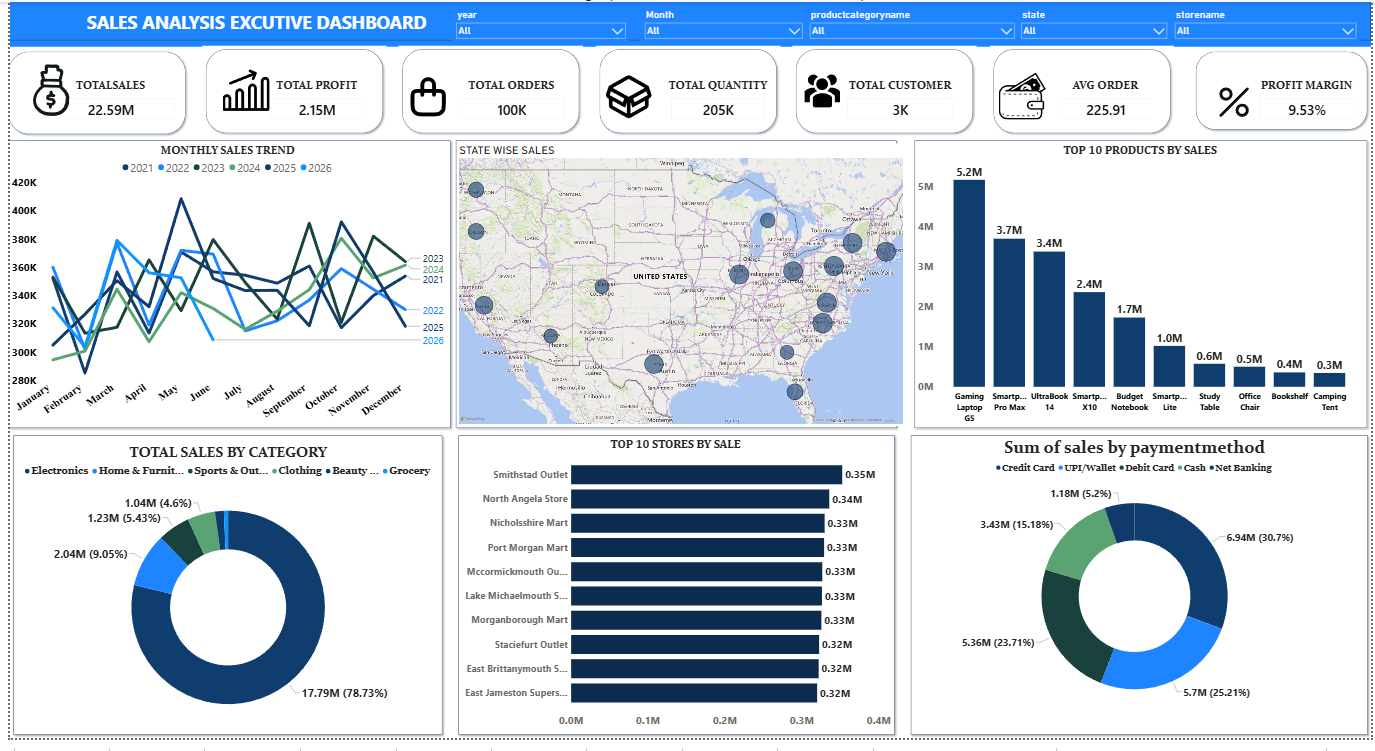

The page's visual inventory and layout, read from the dashboard file:
{"tool":"powerbi","page":{"name":"Excutive dashboard","canvas":[3700,2000],"ordinal":11},"visuals":[{"type":"group","id":"g1","title":"Group 4","box":[-12,-16,3712,2000],"z":0},{"type":"group","id":"g2","title":"Group 2","box":[-12,-16,3712,384],"z":0,"group":"g1"},{"type":"group","id":"g3","title":"Group 1","box":[-12,-16,3712,139.6],"z":0,"group":"g2"},{"type":"shape","box":[-12,-16,3712,121.3],"z":0,"group":"g3"},{"type":"shape","box":[-12,368,1219.9,800],"z":0,"group":"g7"},{"type":"textbox","box":[20,18.9,1120,104.7],"z":1000,"group":"g3"},{"type":"shape","box":[-12,125.5,499.7,242.5],"z":1000,"group":"g2"},{"type":"cardVisual","title":"AVG ORDER","fields":{"Data":["dimcustomer.Average Order Value"]},"box":[2836,208,288,128],"z":1000,"group":"g1"},{"type":"group","id":"g4","title":"Group 10","box":[-12,368,3712,1632],"z":1000},{"type":"group","id":"g5","title":"Group 9","box":[-12,368,3712,1632],"z":1000,"group":"g4"},{"type":"group","id":"g6","title":"Group 5","box":[-12,368,3712,800],"z":1000,"group":"g5"},{"type":"shape","box":[1204,368,1216,800],"z":1000,"group":"g7"},{"type":"group","id":"g7","title":"Group 6","box":[-12,368,3712,800],"z":1001,"group":"g6"},{"type":"slicer","fields":{"Values":["dimdate.year"]},"box":[1203.4,16,480,96],"z":2000,"group":"g10"},{"type":"shape","box":[523.4,121.1,499.7,246.9],"z":2000,"group":"g2"},{"type":"image","box":[0,160,224,160],"z":2000},{"type":"cardVisual","title":"TOTALSALES","fields":{"Data":["dimcustomer.total sales"]},"box":[84,208,384,128],"z":2000,"group":"g1"},{"type":"shape","box":[2452,368,1248,800],"z":2000,"group":"g7"},{"type":"lineChart","title":"MONTHLY SALES TREND","fields":{"Y":["Sum(factsales.sales)"],"Series":["dimdate.year"],"Category":["dimdate.date.Variation.Date Hierarchy.Month"]},"box":[0,384,1184,768],"z":2000,"group":"g4"},{"type":"slicer","fields":{"Values":["dimdate.date.Variation.Date Hierarchy.Month"]},"box":[1715.4,16,448,96],"z":3000,"group":"g10"},{"type":"shape","box":[1594.2,121.1,499.7,246.9],"z":3000,"group":"g2"},{"type":"image","box":[576,160,128,160],"z":3000},{"type":"cardVisual","title":"TOTAL PROFIT","fields":{"Data":["dimcustomer.total profit"]},"box":[692,208,288,128],"z":3000,"group":"g1"},{"type":"group","id":"g8","title":"Group 7","box":[0,1168,3700,832],"z":3000,"group":"g5"},{"type":"shape","box":[2440,1168,1260,832],"z":3000,"group":"g9"},{"type":"donutChart","title":"TOTAL SALES BY CATEGORY","fields":{"Y":["Sum(factsales.sales)"],"Category":["dimproductcategory.productcategoryname"]},"box":[20,1200,1152,800],"z":3000,"group":"g4"},{"type":"group","id":"g9","title":"Group 8","box":[0,1168,3700,832],"z":3001,"group":"g8"},{"type":"shape","box":[0,1168,1184,832],"z":3500,"group":"g9"},{"type":"slicer","fields":{"Values":["dimproductcategory.productcategoryname"]},"box":[2163.4,16,576,96],"z":4000,"group":"g10"},{"type":"shape","box":[3215.8,128,484.2,230.4],"z":4000,"group":"g2"},{"type":"image","box":[1056,192,160,128],"z":4000},{"type":"cardVisual","title":"TOTAL ORDERS","fields":{"Data":["dimcustomer.Total Orders"]},"box":[1204,208,320,128],"z":4000,"group":"g1"},{"type":"map","title":"STATE WISE SALES","fields":{"Category":["dimstore.state"],"Size":["Sum(factsales.sales)"]},"box":[1216,384,1216,768],"z":4000,"group":"g4"},{"type":"shape","box":[1208,1168,1204,832],"z":4000,"group":"g9"},{"type":"slicer","fields":{"Values":["dimstore.state"]},"box":[2739.4,16,416,96],"z":5000,"group":"g10"},{"type":"shape","box":[2129.5,121.1,499.7,246.9],"z":5000,"group":"g2"},{"type":"image","box":[1568,192,224,128],"z":5000},{"type":"cardVisual","title":"TOTAL QUANTITY","fields":{"Data":["dimcustomer.Total Quantity"]},"box":[1780,208,288,128],"z":5000,"group":"g1"},{"type":"clusteredColumnChart","title":"TOP 10 PRODUCTS BY SALES","fields":{"Category":["dimproduct.productname"],"Y":["Sum(factsales.sales)"]},"box":[2464,384,1216,768],"z":5000,"group":"g4"},{"type":"slicer","fields":{"Values":["dimstore.storename"]},"box":[3155.4,16,512,96],"z":6000,"group":"g10"},{"type":"shape","box":[2664.9,121.1,499.7,246.9],"z":6000,"group":"g2"},{"type":"image","box":[2144,160,128,160],"z":6000},{"type":"cardVisual","title":"TOTAL CUSTOMER","fields":{"Data":["dimcustomer.Total Customers"]},"box":[2260,208,320,128],"z":6000,"group":"g1"},{"type":"clusteredBarChart","title":"TOP 10 STORES BY SALE","fields":{"Y":["Sum(factsales.sales)"],"Category":["dimstore.storename"]},"box":[1216,1184,1184,800],"z":6000,"group":"g4"},{"type":"shape","box":[1058.8,121.1,499.7,246.9],"z":7000,"group":"g2"},{"type":"image","box":[2688,160,128,192],"z":7000},{"type":"cardVisual","title":"PROFIT MARGIN","fields":{"Data":["dimcustomer.Profit Margin %"]},"box":[3380,208,288,128],"z":7000,"group":"g1"},{"type":"donutChart","fields":{"Category":["factsales.paymentmethod"],"Y":["Sum(factsales.sales)"]},"box":[2432,1184,1248,768],"z":7000,"group":"g4"},{"type":"group","id":"g10","title":"Group 3","box":[1203.4,16,2464,96],"z":7001,"group":"g3"},{"type":"image","box":[3232,224,192,96],"z":8000},{"type":"image","box":[0,1626,1184,358],"z":8000,"group":"g1"}]}

Visuals, with their boxes in screenshot pixels (x1, y1, x2, y2), scaled from the page's 3700x2000 canvas onto the 1375x751 screenshot:
"Group 4" group: 0,0,1374,745
"Group 2" group: 0,0,1374,138
"Group 1" group: 0,0,1374,46
shape: 0,0,1374,40
shape: 0,138,449,439
textbox: 7,7,424,46
shape: 0,47,181,138
"AVG ORDER" cardVisual: 1054,78,1161,126
"Group 10" group: 0,138,1374,750
"Group 9" group: 0,138,1374,750
"Group 5" group: 0,138,1374,439
shape: 447,138,899,439
"Group 6" group: 0,138,1374,439
slicer - dimdate.year: 447,6,626,42
shape: 195,45,380,138
image: 0,60,83,120
"TOTALSALES" cardVisual: 31,78,174,126
shape: 911,138,1374,439
"MONTHLY SALES TREND" lineChart: 0,144,440,433
slicer - dimdate.date.Variation.Date Hierarchy.Month: 637,6,804,42
shape: 592,45,778,138
image: 214,60,262,120
"TOTAL PROFIT" cardVisual: 257,78,364,126
"Group 7" group: 0,439,1374,750
shape: 907,439,1374,750
"TOTAL SALES BY CATEGORY" donutChart: 7,451,436,750
"Group 8" group: 0,439,1374,750
shape: 0,439,440,750
slicer - dimproductcategory.productcategoryname: 804,6,1018,42
shape: 1195,48,1374,135
image: 392,72,452,120
"TOTAL ORDERS" cardVisual: 447,78,566,126
"STATE WISE SALES" map: 452,144,904,433
shape: 449,439,896,750
slicer - dimstore.state: 1018,6,1173,42
shape: 791,45,977,138
image: 583,72,666,120
"TOTAL QUANTITY" cardVisual: 661,78,769,126
"TOP 10 PRODUCTS BY SALES" clusteredColumnChart: 916,144,1368,433
slicer - dimstore.storename: 1173,6,1363,42
shape: 990,45,1176,138
image: 797,60,844,120
"TOTAL CUSTOMER" cardVisual: 840,78,959,126
"TOP 10 STORES BY SALE" clusteredBarChart: 452,445,892,745
shape: 393,45,579,138
image: 999,60,1046,132
"PROFIT MARGIN" cardVisual: 1256,78,1363,126
donutChart - factsales.paymentmethod x Sum(factsales.sales): 904,445,1368,733
"Group 3" group: 447,6,1363,42
image: 1201,84,1272,120
image: 0,611,440,745
